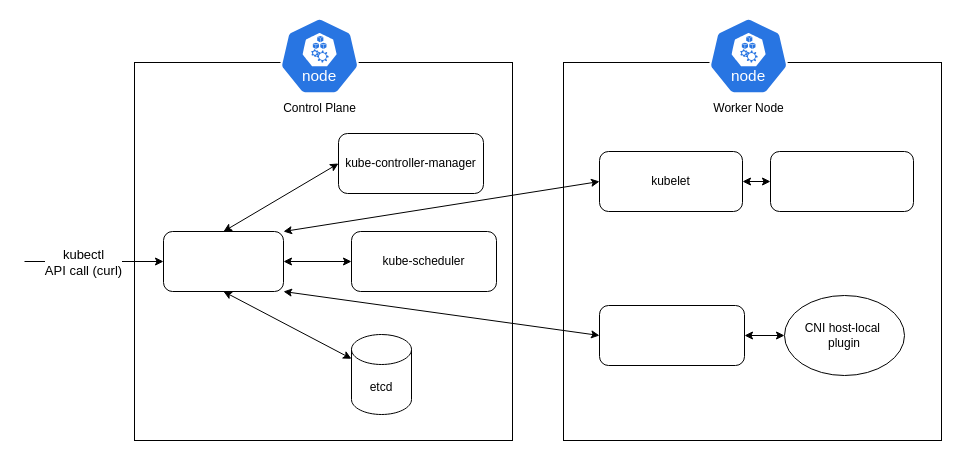
Some shapes in this 959 by 458 pixel diagram are drawn without their labels. Each missing label, with the box of its shape:
containerd: (770, 150, 914, 212)
kube-apiserver: (162, 230, 284, 292)
kube-proxy: (598, 304, 744, 366)
